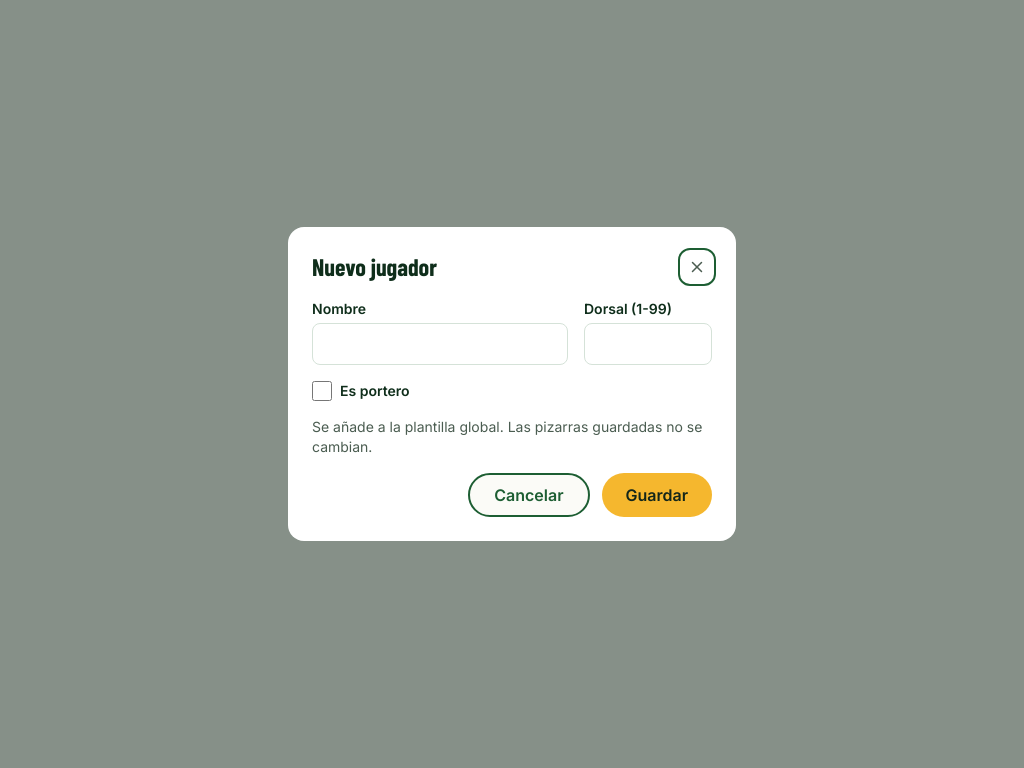
PlayerForm › debería mostrar un error y no guardar si el nombre está vacío
The image size is (1024, 768).
Type "10" into the number field labelled "Dorsal (1-99)".
click(648, 344); type("10")  # box [584, 323, 712, 365]
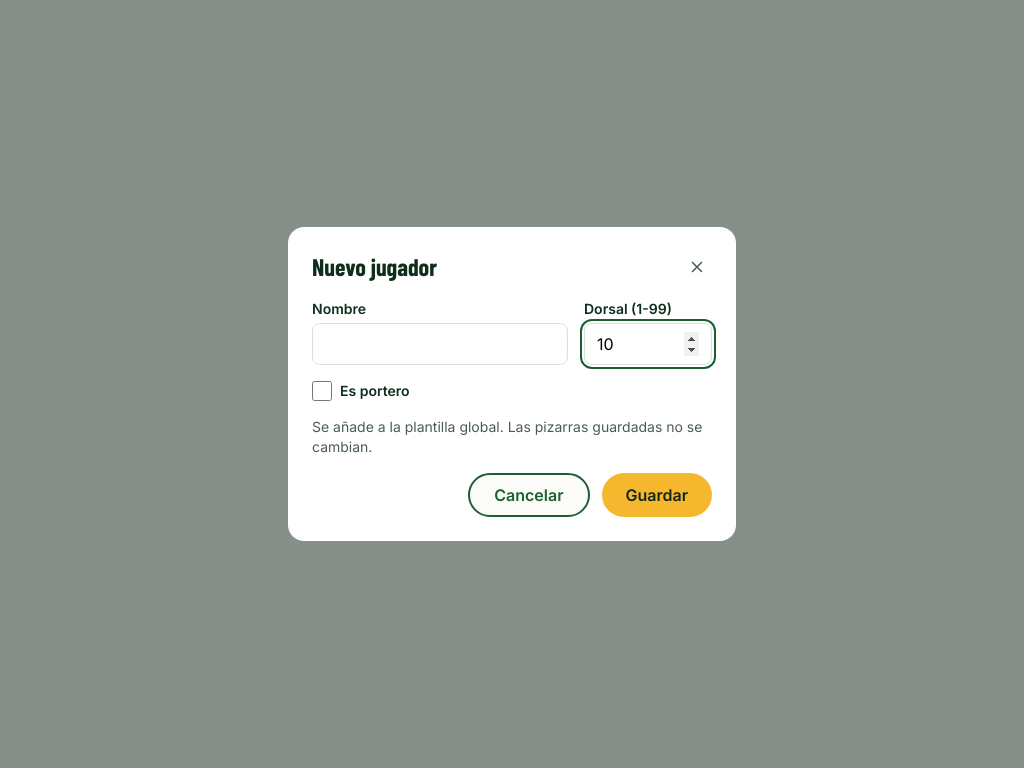
Click the button "Guardar".
click(657, 495)  # box [602, 473, 712, 517]
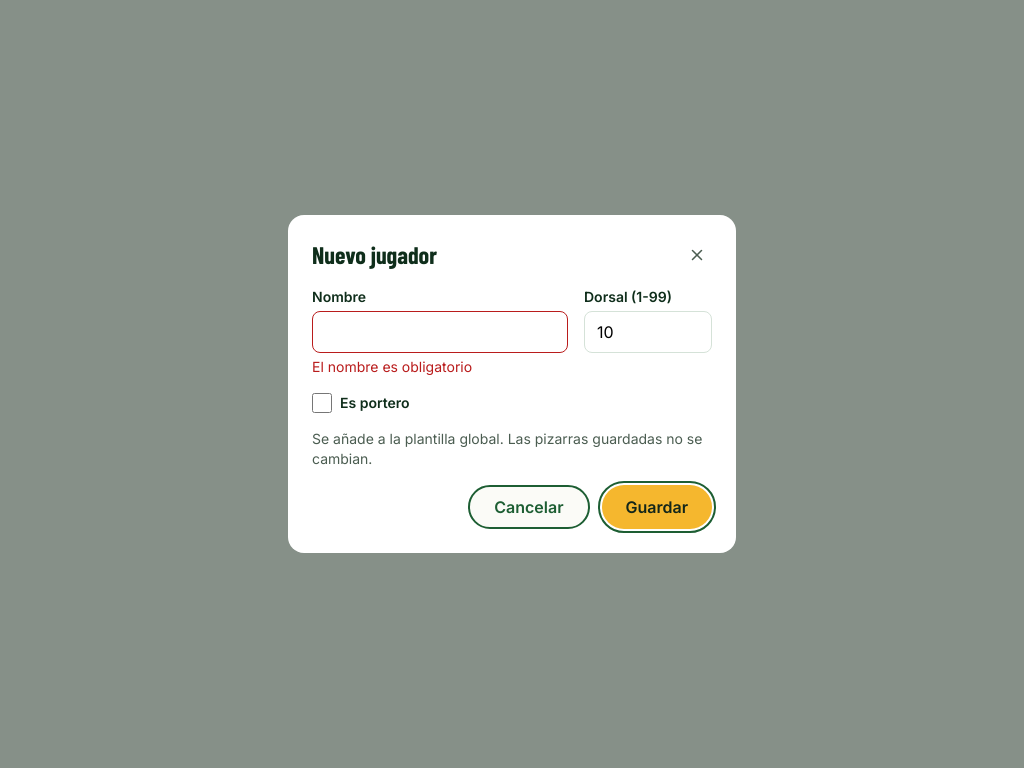
Check: the text "El nombre es obligatorio" is shown, box [312, 358, 472, 375]
